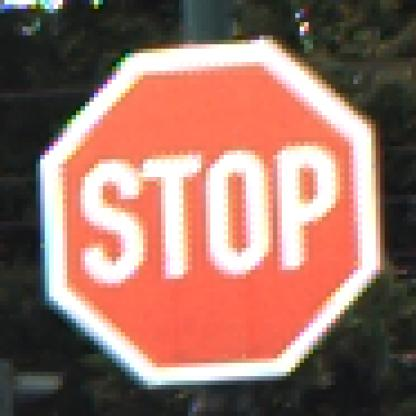stop: (31, 45, 397, 388)
